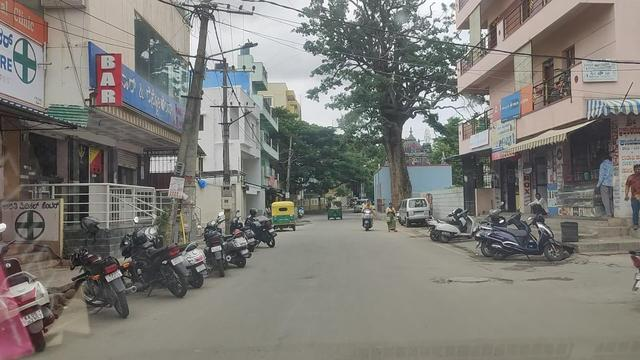LMV: (0, 193, 137, 360)
RoadDamages: (426, 266, 511, 291)
